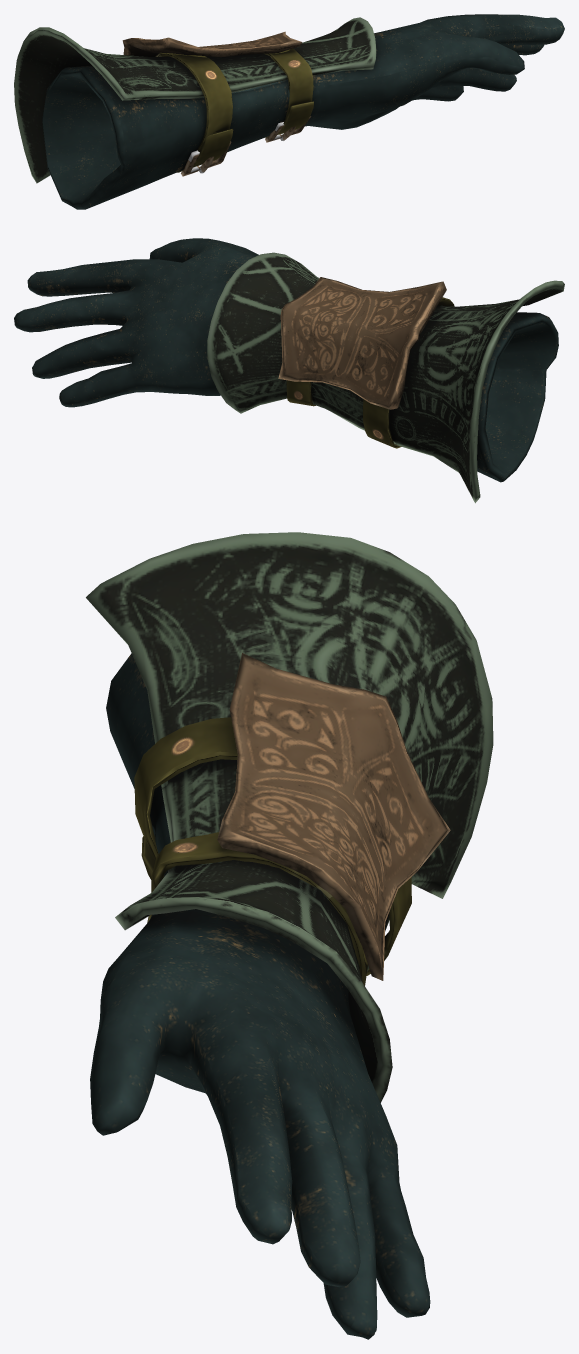
3 views of the same model, one above another, from view 1: azimuth 30°, elevation 25°; view 2: azimuth 150°, elevation 25°; view 3: azimuth 270°, elevation 25° (orthographic). The views are drawn at different scales.
Visible parts, largest first — view 1: BuckleB_Low; view 2: BuckleB_Low; view 3: BuckleB_Low.
Part boxes in pixels (<box>): BuckleB_Low: <box>14,14,564,209</box>; BuckleB_Low: <box>14,238,564,503</box>; BuckleB_Low: <box>86,532,493,1339</box>.
Bounding box in the file's own units: 1.23 × 0.4408 × 0.4348.
Materials: 1 (1 with a texture image).
